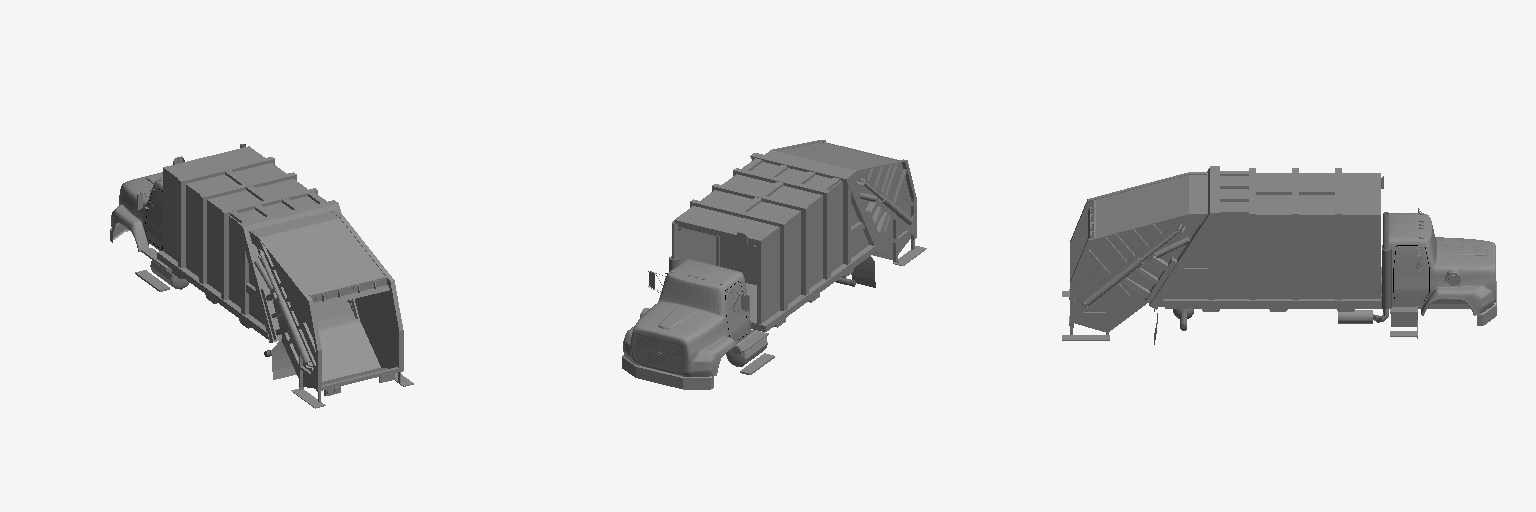
Rendered from cam1.obj.
3 renders of one model, left to right at view 1: azimuth 30°, elevation 25°; view 2: azimuth 150°, elevation 25°; view 3: azimuth 270°, elevation 25°, orthographic.
Visible parts, largest first — view 1: Obj_000033, Obj_000017, Obj_000004, Obj_000016, Obj_000019; view 2: Obj_000033, Obj_000017, Obj_000004, Obj_000032, Obj_000029, Obj_000021, Obj_000012, Obj_000025, Obj_000019; view 3: Obj_000033, Obj_000017, Obj_000004, Obj_000029, Obj_000007, Obj_000032, Obj_000016, Obj_000025, Obj_000006.
Part boxes in pixels (x1,y1,x2,y2): Obj_000033: (163,146,396,388); Obj_000017: (157,157,413,408); Obj_000004: (111,172,162,251); Obj_000016: (254,260,310,364); Obj_000019: (272,340,296,379); Obj_000033: (674,142,910,323); Obj_000017: (678,140,926,331); Obj_000004: (623,259,750,376); Obj_000032: (660,276,741,312); Obj_000029: (622,355,713,389); Obj_000021: (635,334,684,371); Obj_000012: (635,335,683,371); Obj_000025: (738,331,774,374); Obj_000019: (851,256,875,287); Obj_000033: (1074,173,1383,331); Obj_000017: (1062,166,1380,340); Obj_000004: (1382,213,1495,315); Obj_000029: (1165,281,1496,325); Obj_000007: (1338,212,1388,323); Obj_000032: (1396,225,1459,285); Obj_000016: (1084,236,1189,305); Obj_000025: (1381,267,1417,338); Obj_000006: (1382,247,1391,308).
Size of the model in its own units: 2.8 by 3.49 by 10.27.